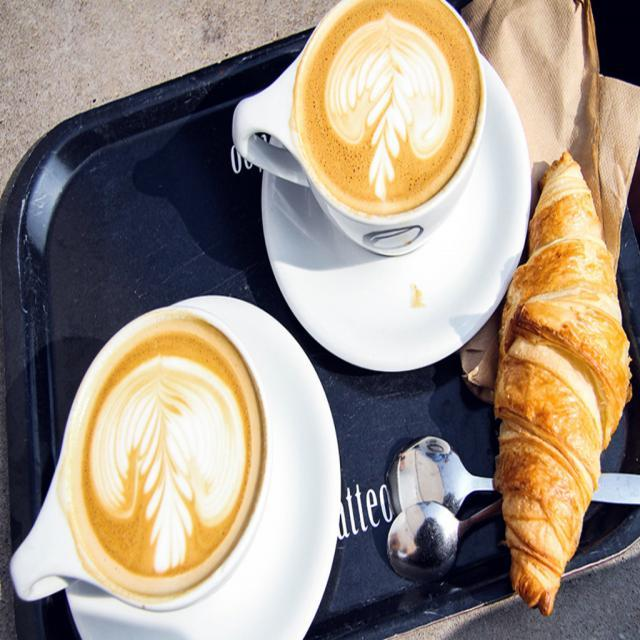Croissant: (496, 151, 636, 619)
